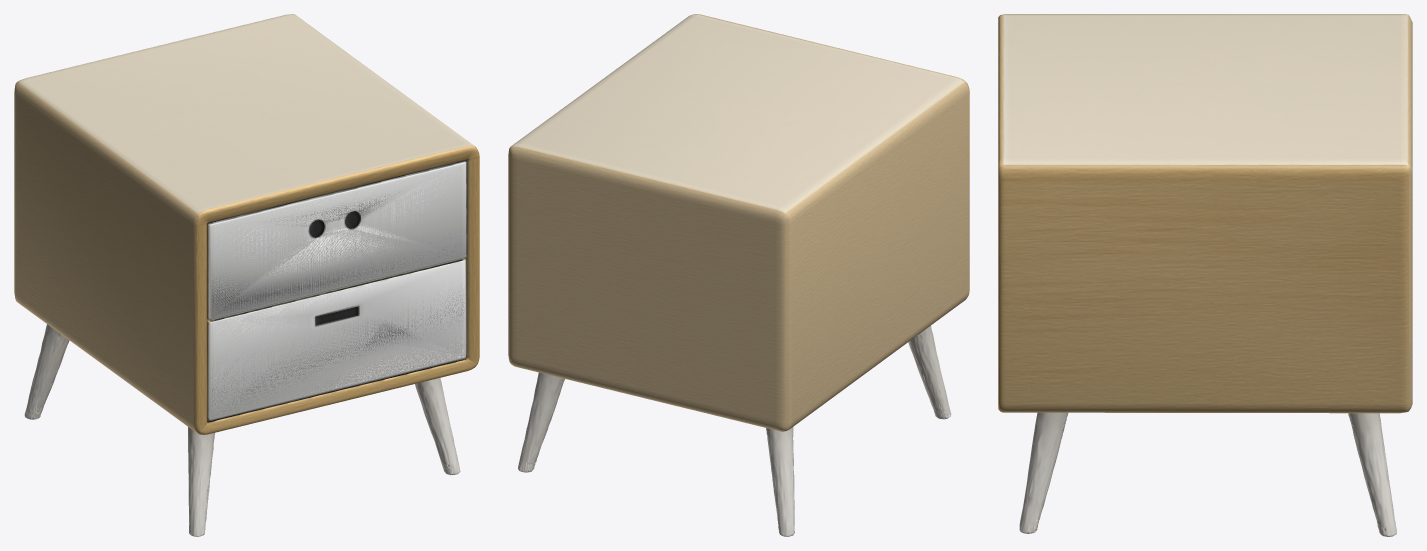
The model's file is Mario - Natural.glb.
3 renders of one model, left to right at view 1: azimuth 30°, elevation 25°; view 2: azimuth 150°, elevation 25°; view 3: azimuth 270°, elevation 25°, orthographic. The views are drawn at different scales.
Parts seen in each view (by area): view 1: tripo_node_b8acf380-1c95-4913-a6b3-08b241d3c047; view 2: tripo_node_b8acf380-1c95-4913-a6b3-08b241d3c047; view 3: tripo_node_b8acf380-1c95-4913-a6b3-08b241d3c047.
Part boxes in pixels (x1,y1,x2,y2): tripo_node_b8acf380-1c95-4913-a6b3-08b241d3c047: (14,14,479,536); tripo_node_b8acf380-1c95-4913-a6b3-08b241d3c047: (508,14,969,536); tripo_node_b8acf380-1c95-4913-a6b3-08b241d3c047: (998,14,1412,536).
Bounding box in the file's own units: 0.8887 × 0.9941 × 0.998.
Materials: 1 (1 with a texture image).
